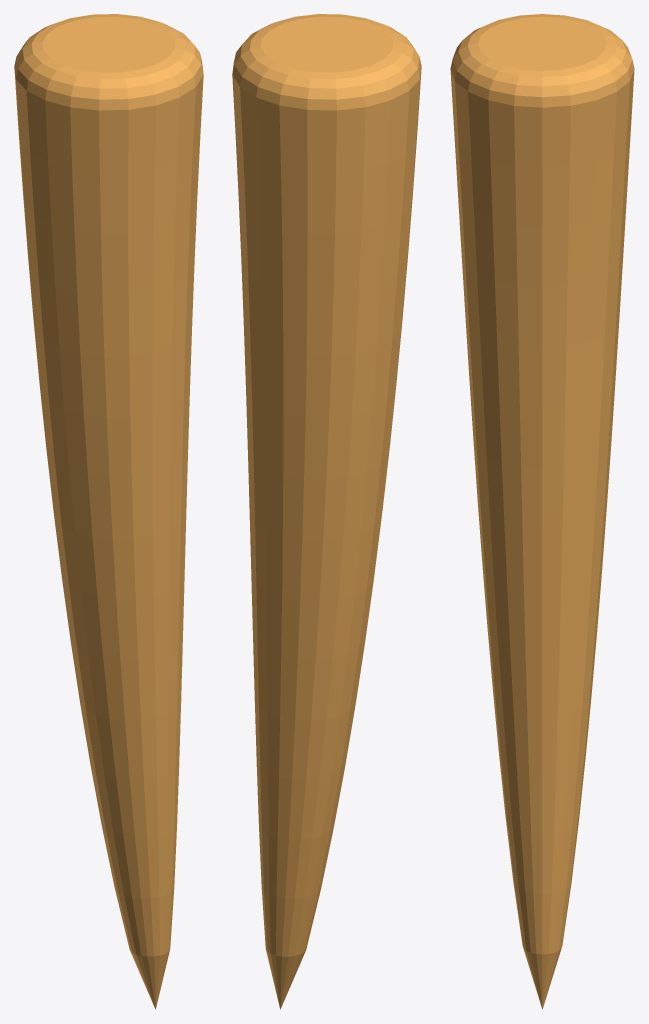
The model's file is carrot_v09.glb.
3 renders of one model, left to right at view 1: azimuth 30°, elevation 25°; view 2: azimuth 150°, elevation 25°; view 3: azimuth 270°, elevation 25°, orthographic. The views are drawn at different scales.
Parts seen in each view (by area): view 1: root; view 2: root; view 3: root.
Boxes of the visible parts, x1,y1,x2,y2 form: root: [14, 14, 203, 1009]; root: [232, 14, 421, 1009]; root: [450, 14, 634, 1009].
Size of the model in its own units: 0.0306 by 0.1732 by 0.0306.
